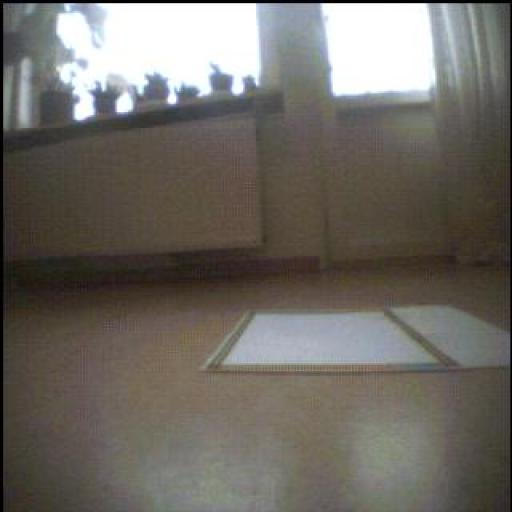Pad: (196, 300, 512, 370)
